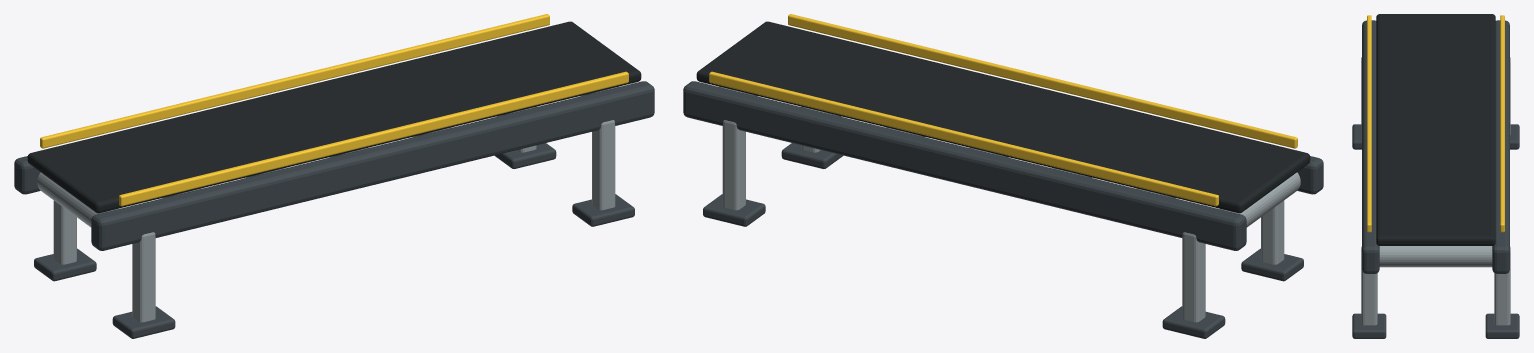
Rendered from conveyor_module_prototype.glb.
3 renders of one model, left to right at view 1: azimuth 30°, elevation 25°; view 2: azimuth 150°, elevation 25°; view 3: azimuth 270°, elevation 25°, orthographic. The views are drawn at different scales.
Visible parts, largest first — view 1: Moving belt surface, Left structural beam, Safety edge strip, Safety edge strip.001, Support leg.002, Support leg, Support leg.001, Foot plate, Foot plate.002, Foot plate.001, Roller, Foot plate.003 (+1 smaller); view 2: Moving belt surface, Right structural beam, Safety edge strip.001, Safety edge strip, Support leg.003, Support leg.001, Support leg, Foot plate.001, Foot plate.003, Foot plate, Roller, Foot plate.002 (+1 smaller); view 3: Moving belt surface, Left structural beam, Right structural beam, Roller.006, Safety edge strip, Safety edge strip.001, Support leg.002, Support leg.003, Foot plate.002, Foot plate.003, Foot plate, Foot plate.001.
Part boxes in pixels (box(x1,y1,x2,y2)): Moving belt surface: box(27, 21, 641, 213); Left structural beam: box(91, 81, 654, 250); Safety edge strip: box(119, 71, 628, 206); Safety edge strip.001: box(40, 14, 549, 148); Support leg.002: box(592, 120, 615, 210); Support leg: box(132, 232, 155, 322); Support leg.001: box(53, 200, 76, 264); Foot plate: box(112, 306, 175, 338); Foot plate.002: box(572, 194, 634, 226); Foot plate.001: box(34, 248, 96, 281); Roller: box(37, 172, 117, 227); Foot plate.003: box(494, 143, 556, 168); Moving belt surface: box(696, 21, 1310, 213); Right structural beam: box(683, 81, 1246, 250); Safety edge strip.001: box(709, 71, 1218, 206); Safety edge strip: box(788, 14, 1297, 148); Support leg.003: box(722, 120, 745, 210); Support leg.001: box(1182, 232, 1205, 322); Support leg: box(1261, 200, 1284, 264); Foot plate.001: box(1162, 306, 1225, 338); Foot plate.003: box(703, 194, 765, 226); Foot plate: box(1241, 248, 1303, 281); Roller: box(1220, 172, 1300, 227); Foot plate.002: box(781, 143, 843, 168); Moving belt surface: box(1376, 14, 1495, 245); Left structural beam: box(1362, 20, 1379, 273); Right structural beam: box(1492, 20, 1509, 273); Roller.006: box(1379, 246, 1492, 267); Safety edge strip: box(1367, 15, 1371, 232); Safety edge strip.001: box(1500, 15, 1504, 232); Support leg.002: box(1361, 246, 1377, 325); Support leg.003: box(1494, 246, 1510, 325); Foot plate.002: box(1352, 313, 1386, 338); Foot plate.003: box(1485, 313, 1519, 338); Foot plate: box(1352, 124, 1361, 149); Foot plate.001: box(1510, 124, 1519, 149).
Size of what is drawn, in the model's own units: 4 by 0.945 by 1.23.
